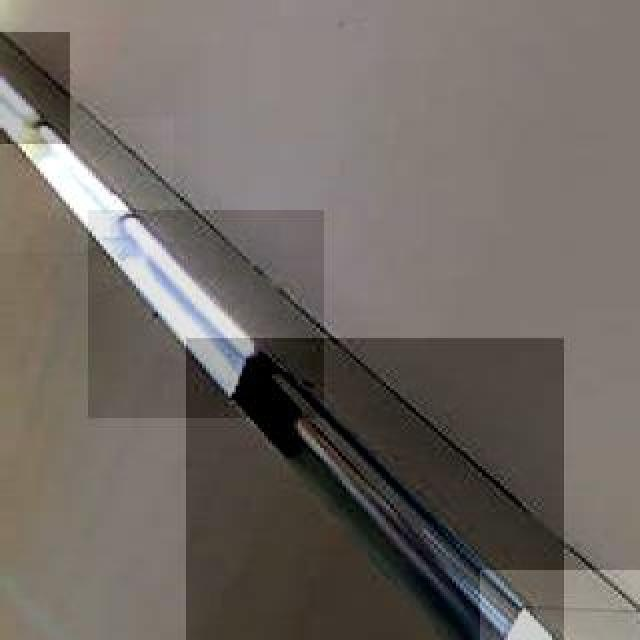fluorescent tube: (188, 330, 560, 640), (100, 211, 307, 365), (22, 124, 134, 224), (478, 576, 640, 640)
